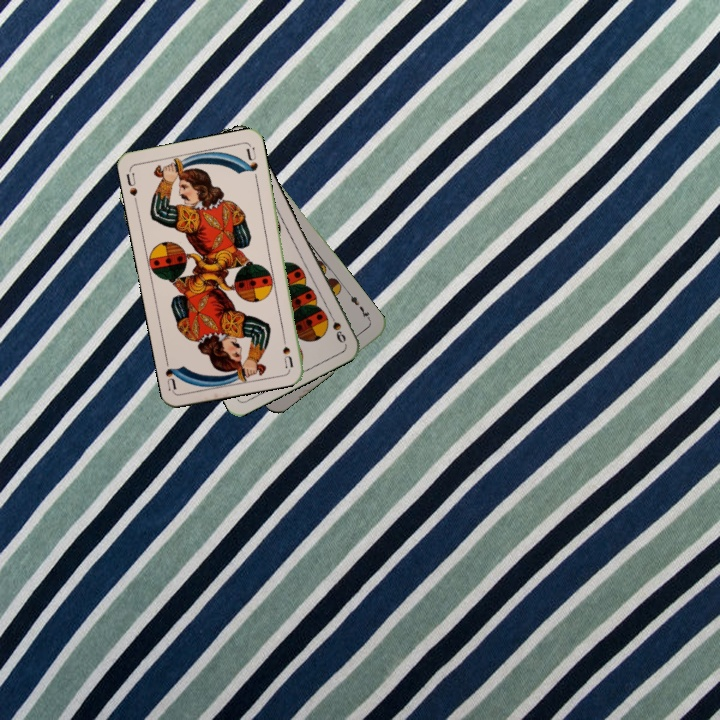E7: (345, 289, 374, 324)
S9: (324, 307, 348, 346)
SU: (278, 329, 296, 370), (122, 166, 140, 198)
